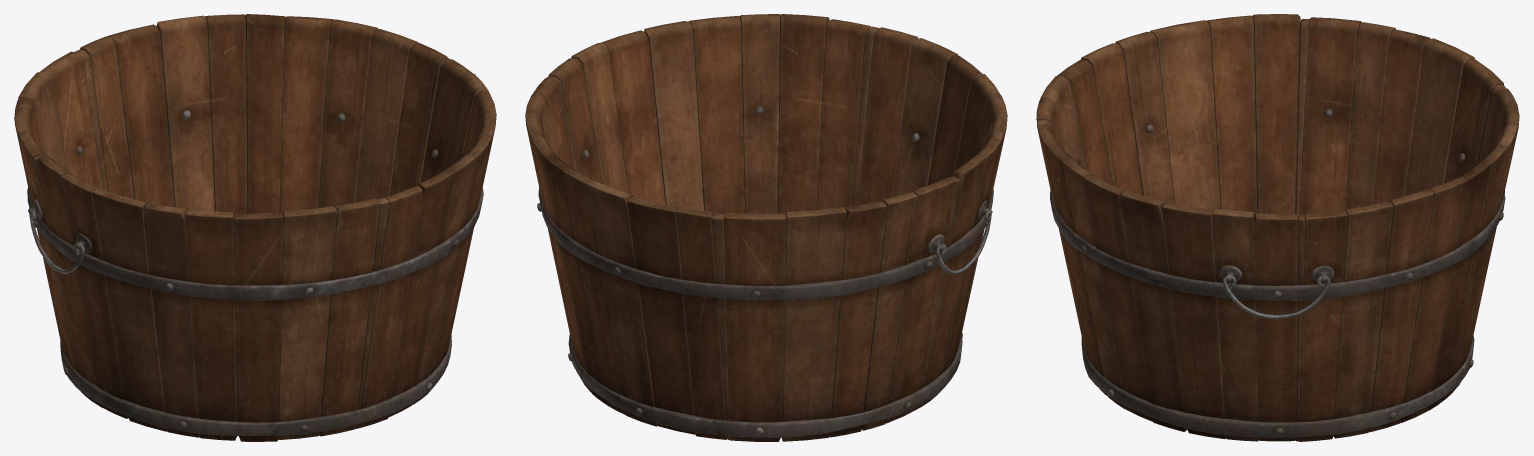
File: wooden_bucket_02.glb
The picture shows the model from 3 angles, left to right: view 1: azimuth 30°, elevation 25°; view 2: azimuth 150°, elevation 25°; view 3: azimuth 270°, elevation 25°; orthographic projection.
Parts seen in each view (by area): view 1: wooden_bucket_02, wooden_bucket_02_handle_01; view 2: wooden_bucket_02, wooden_bucket_02_handle_01; view 3: wooden_bucket_02, wooden_bucket_02_handle_02.
Boxes of the visible parts, box(x1,y1,x2,y2) form: wooden_bucket_02: box(14, 14, 496, 441); wooden_bucket_02_handle_01: box(29, 210, 84, 273); wooden_bucket_02: box(525, 14, 1007, 441); wooden_bucket_02_handle_01: box(935, 211, 991, 274); wooden_bucket_02: box(1036, 14, 1519, 441); wooden_bucket_02_handle_02: box(1222, 275, 1330, 319).
Size of the model in its own units: 0.6153 by 0.3504 by 0.6163.
1 material, 1 textured.
